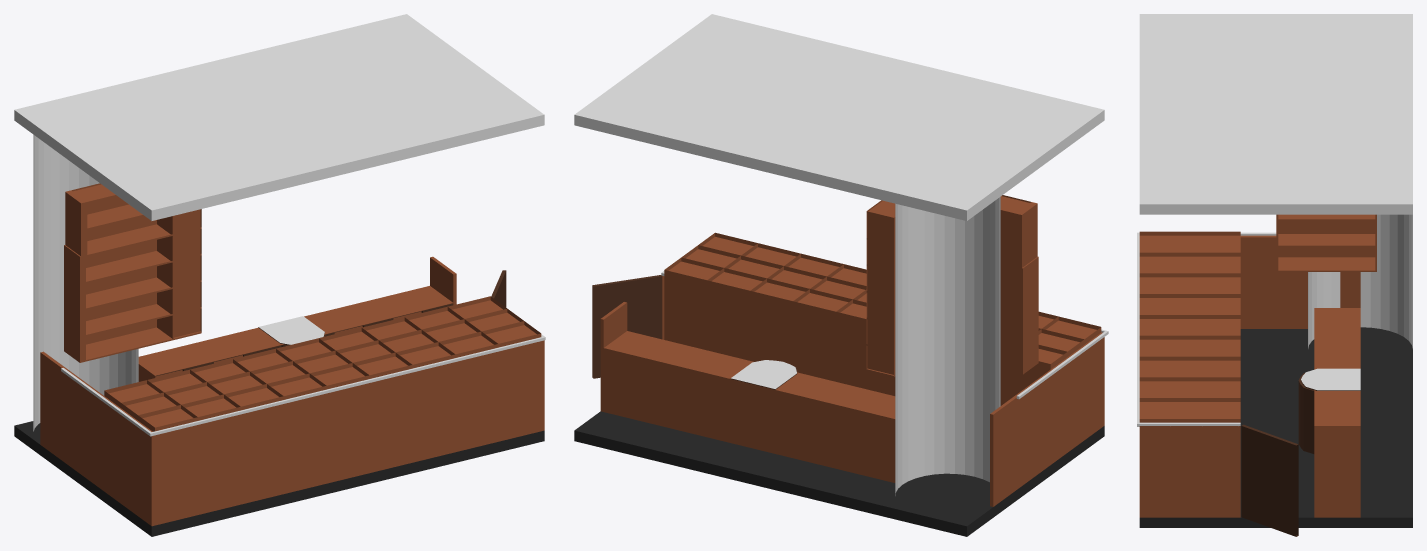
Rendered from 3ddesign.glb.
The picture shows the model from 3 angles, left to right: view 1: azimuth 30°, elevation 25°; view 2: azimuth 150°, elevation 25°; view 3: azimuth 270°, elevation 25°; orthographic projection.
Visible parts, largest first — view 1: platform raised.001, Cube.001, cupboard, Cube, pillar, Cube.002, platform raised, cupboard.002, Cube.007, Cube.006, Cube.004; view 2: platform raised.001, pillar, Cube.001, Cube.002, platform raised, Cube, cupboard, cupboard.002, Cube.003, Cube.006, Cube.004; view 3: platform raised.001, Cube.001, platform raised, pillar, Cube, cupboard.002, Cube.003, Cube.002, Cube.004, Cube.006, Cube.005, Cube.007.
Part boxes in pixels (<box>): platform raised.001: <box>14,14,544,220</box>; Cube.001: <box>104,296,544,525</box>; cupboard: <box>64,183,173,362</box>; Cube: <box>40,351,154,526</box>; pillar: <box>33,134,138,456</box>; Cube.002: <box>138,286,453,381</box>; platform raised: <box>14,421,544,536</box>; cupboard.002: <box>174,209,201,339</box>; Cube.007: <box>61,334,545,436</box>; Cube.006: <box>259,316,324,344</box>; Cube.004: <box>430,256,456,305</box>; platform raised.001: <box>574,14,1104,220</box>; pillar: <box>895,197,1000,518</box>; Cube.001: <box>662,232,1101,405</box>; Cube.002: <box>603,331,895,482</box>; platform raised: <box>574,411,1104,536</box>; Cube: <box>990,332,1104,506</box>; cupboard: <box>1000,195,1038,374</box>; cupboard.002: <box>866,200,895,376</box>; Cube.003: <box>592,275,662,378</box>; Cube.006: <box>731,360,796,388</box>; Cube.004: <box>600,302,627,411</box>; platform raised.001: <box>1139,14,1412,214</box>; Cube.001: <box>1139,231,1240,517</box>; platform raised: <box>1139,327,1412,527</box>; pillar: <box>1308,214,1412,348</box>; Cube: <box>1240,235,1360,328</box>; cupboard.002: <box>1276,214,1376,271</box>; Cube.003: <box>1241,424,1298,536</box>; Cube.002: <box>1314,308,1360,424</box>; Cube.004: <box>1314,424,1360,517</box>; Cube.006: <box>1301,368,1360,390</box>; Cube.005: <box>1298,373,1360,453</box>; Cube.007: <box>1137,232,1276,426</box>.
Bounding box in the file's own units: 8.6 × 6.15 × 4.74.
